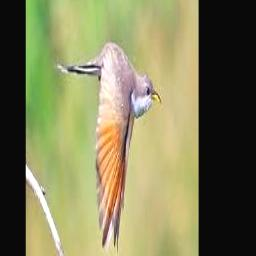Cuckoo: (54, 41, 161, 253)
